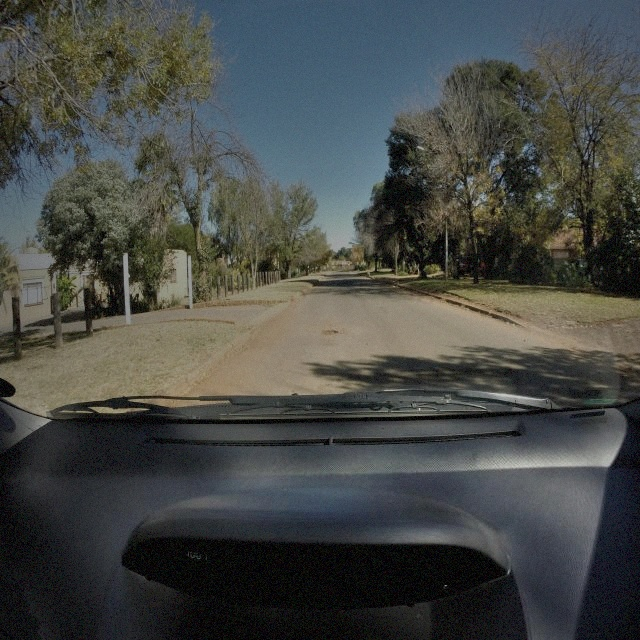pothole: (321, 329, 338, 338)
